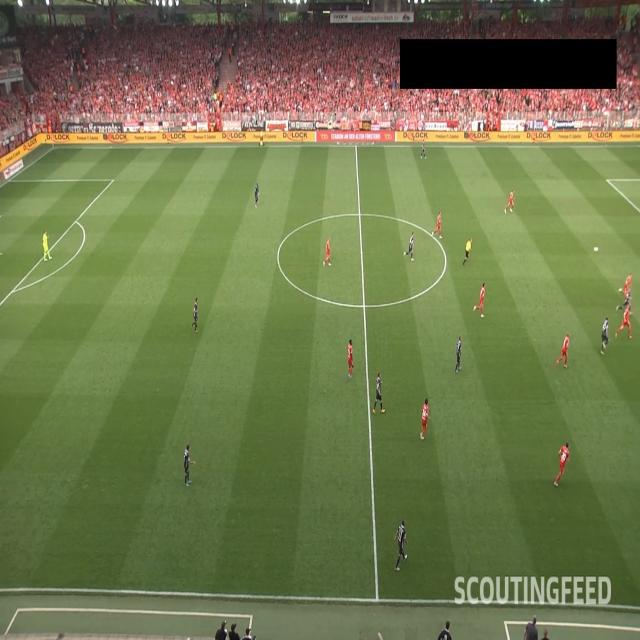ball: (592, 246, 600, 253)
